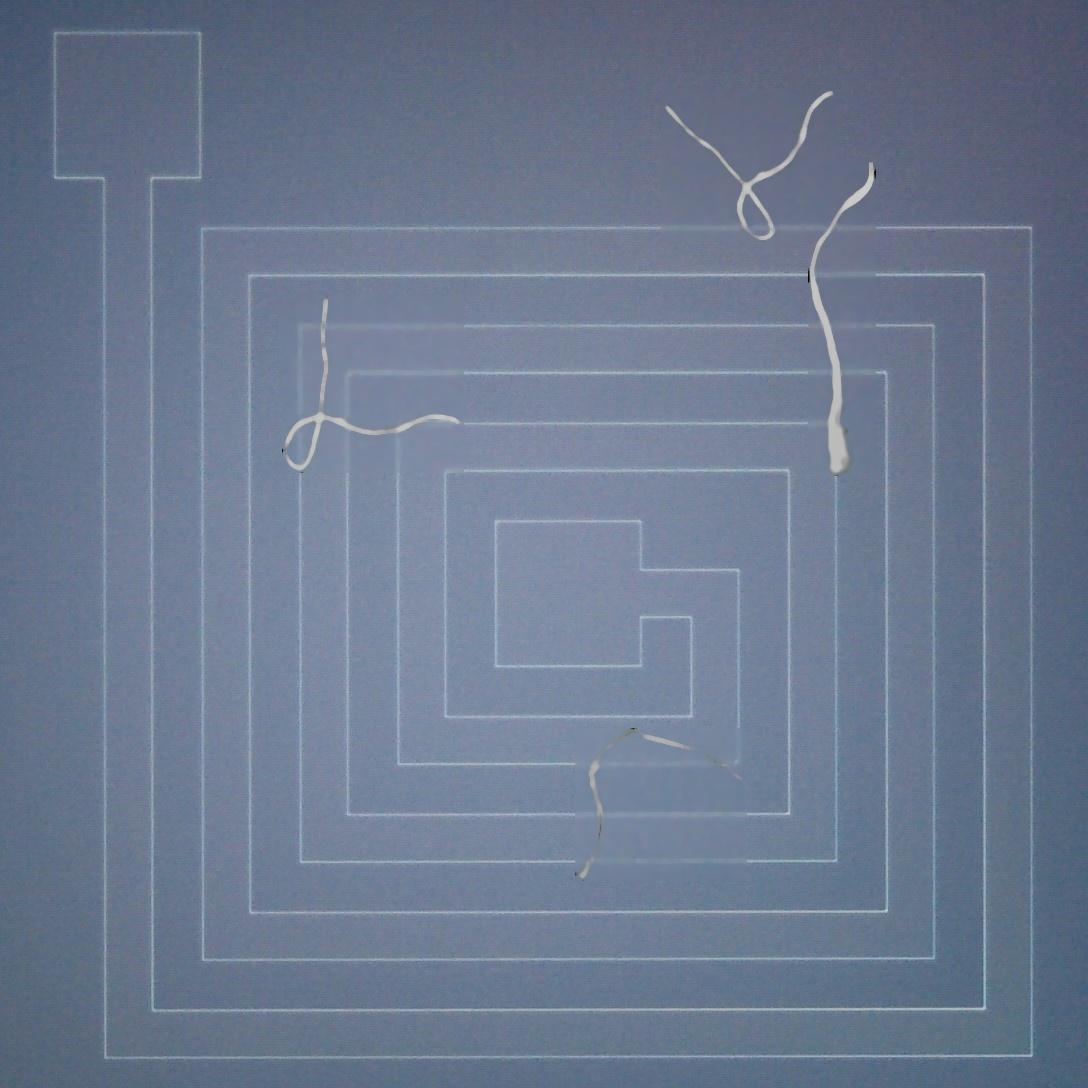foreign: (273, 289, 466, 479), (564, 713, 752, 887), (656, 83, 845, 245), (802, 155, 889, 486)
